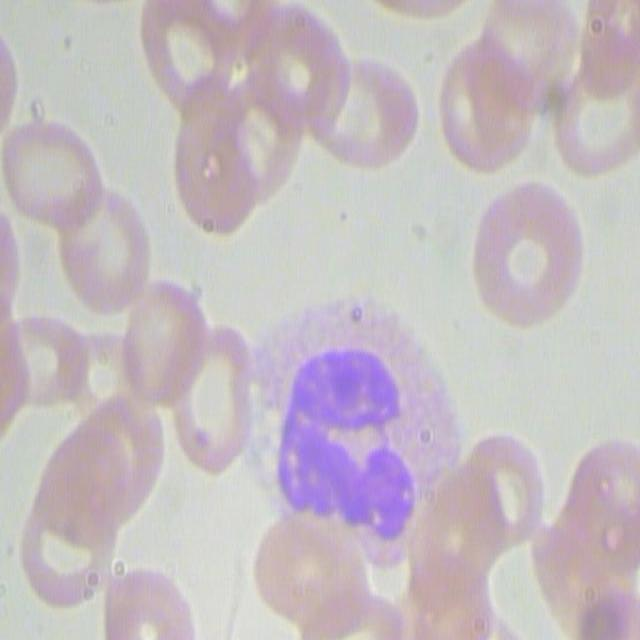RBC: (8, 415, 128, 611), (168, 73, 298, 234), (466, 178, 584, 329), (534, 477, 638, 639), (436, 35, 543, 175), (167, 319, 259, 478), (297, 54, 420, 172), (238, 5, 350, 123), (1, 120, 104, 238), (120, 278, 214, 404), (54, 194, 148, 316), (456, 428, 547, 552), (141, 0, 241, 110), (544, 64, 638, 181), (477, 0, 588, 95), (101, 569, 197, 640)
WBC: (280, 294, 420, 596)
